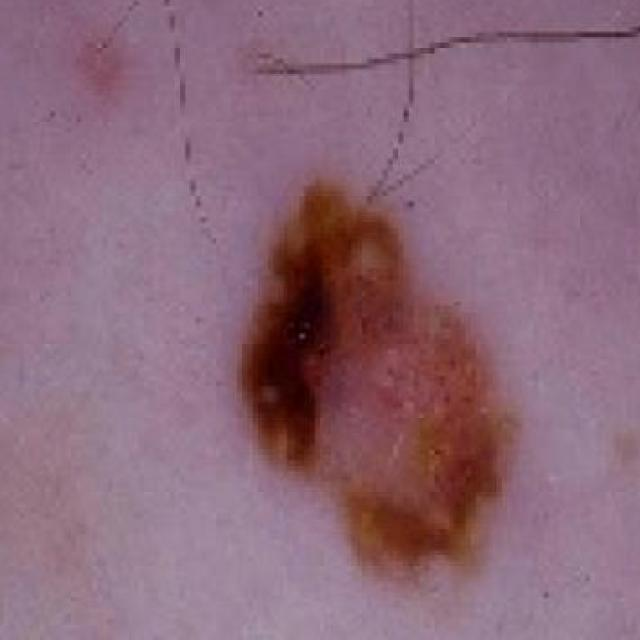BKL: (235, 168, 519, 607)
